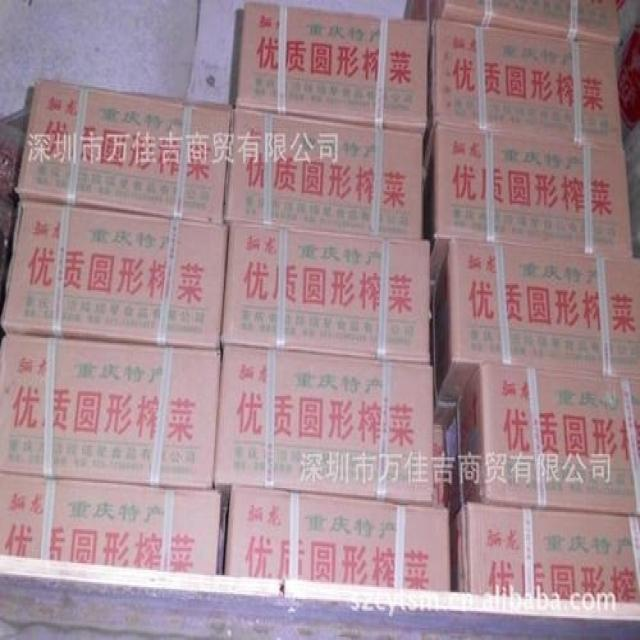box: (211, 346, 434, 505), (434, 237, 640, 406), (0, 335, 221, 492), (0, 203, 228, 350), (430, 135, 634, 287), (15, 80, 229, 224), (219, 224, 431, 360), (457, 362, 640, 514), (224, 108, 424, 242), (234, 2, 428, 130), (433, 17, 623, 145), (0, 473, 227, 573), (225, 490, 452, 589), (452, 500, 640, 601), (399, 0, 620, 43)
